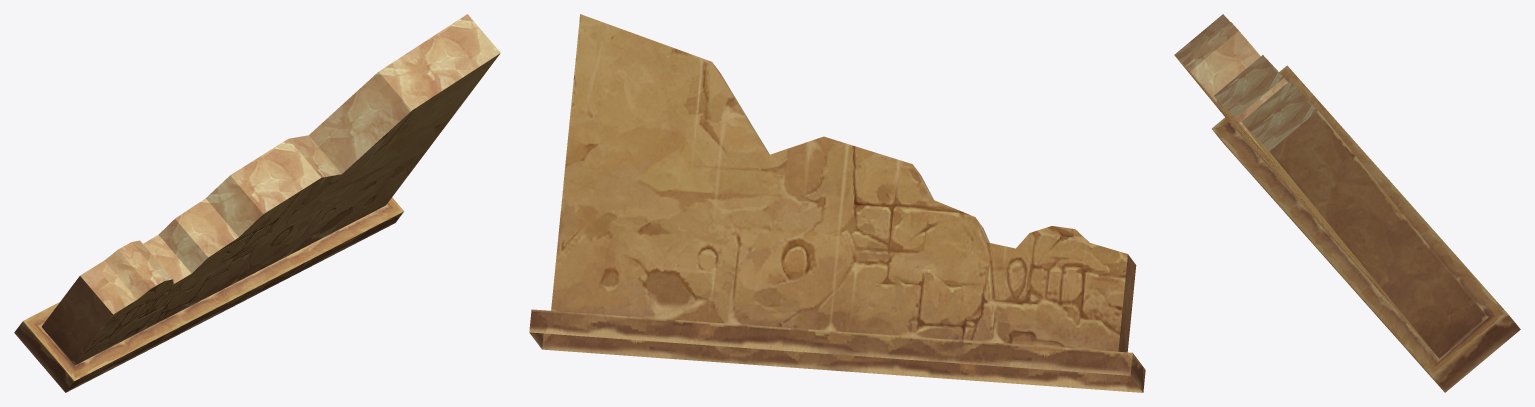
Rendered from Area_12_31.fbx.
The picture shows the model from 3 angles, left to right: view 1: azimuth 30°, elevation 25°; view 2: azimuth 150°, elevation 25°; view 3: azimuth 270°, elevation 25°; orthographic projection. The views are drawn at different scales.
Parts seen in each view (by area): view 1: Area_12_31; view 2: Area_12_31; view 3: Area_12_31.
Boxes of the visible parts, left/top/right/bottom form: Area_12_31: left=14, top=14, right=500, bottom=392; Area_12_31: left=529, top=14, right=1145, bottom=392; Area_12_31: left=1174, top=14, right=1520, bottom=392.
Size of the model in its own units: 901 by 442 by 470.
